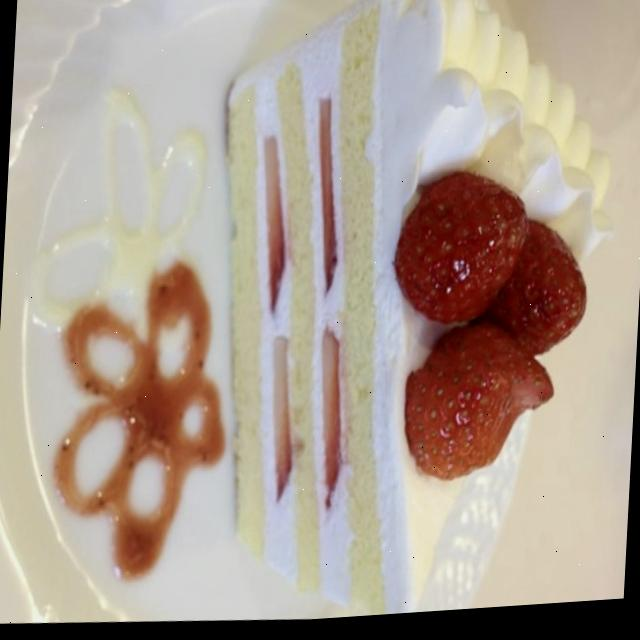蛋糕甜品: (5, 0, 640, 640)
